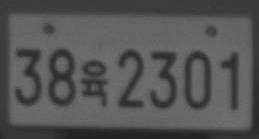0: (185, 50, 211, 110)
1: (219, 51, 246, 110)
2: (117, 48, 144, 108)
3: (150, 50, 178, 108), (15, 48, 41, 106)
8: (48, 48, 75, 105)
육: (80, 59, 108, 107)
